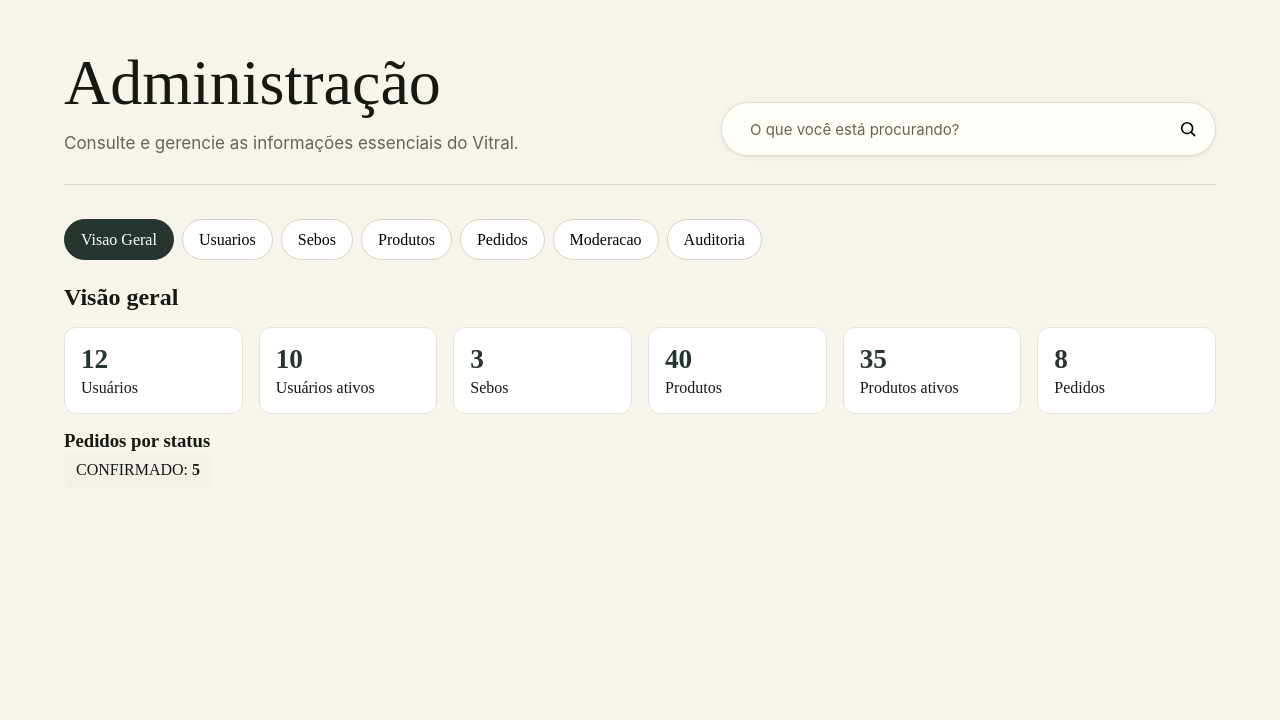
it: administração › exibe métricas, moderação e auditoria sem dados privados
This screenshot has width=1280, height=720.
Check: the text "40" is shown, box left=665, top=344, right=692, bottom=374
Check: the text "Produtos ativos" is shown, box left=860, top=379, right=959, bottom=396
Click the button "Moderacao": (606, 240) left=553, top=219, right=659, bottom=260
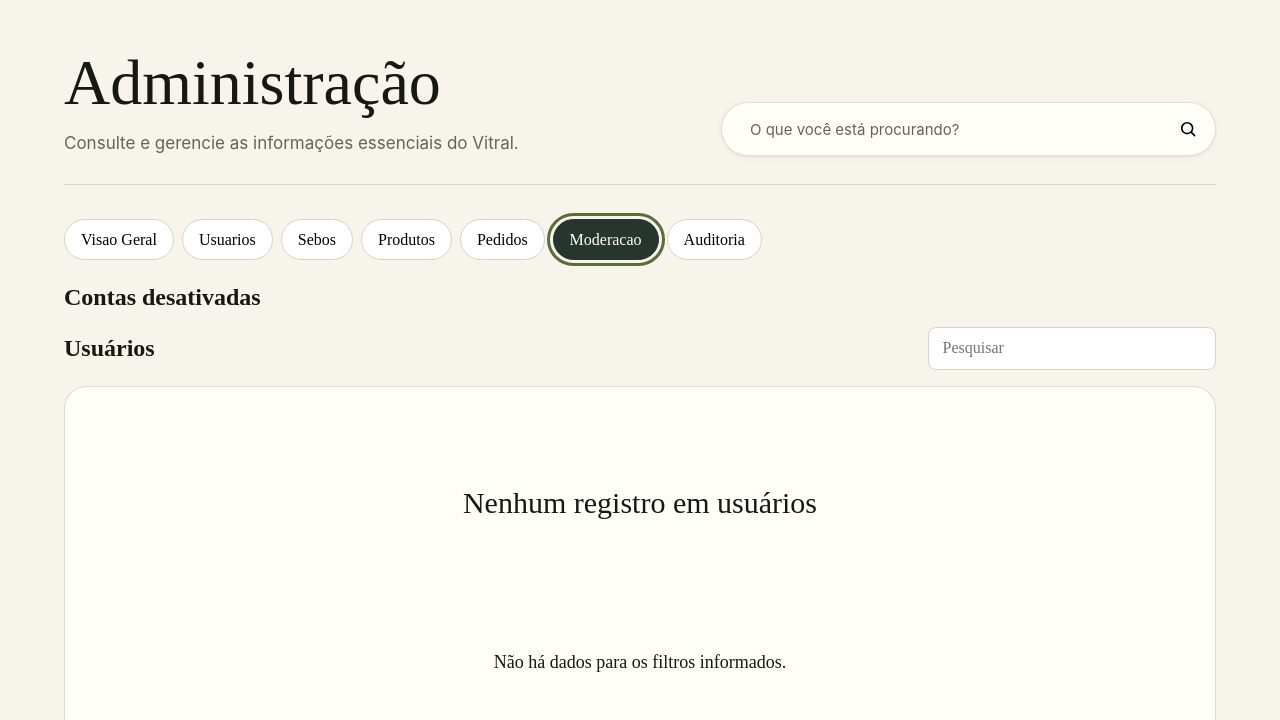
Click the button "Auditoria": (714, 240) left=667, top=219, right=762, bottom=260
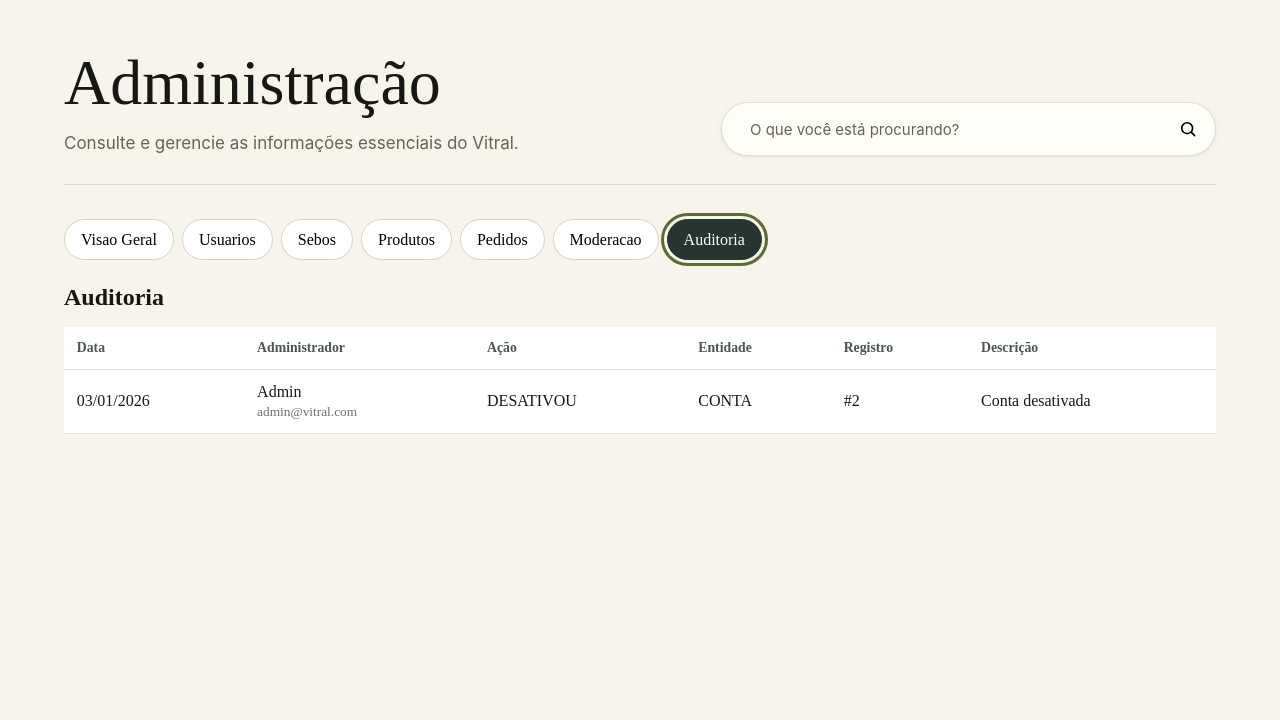
Check: the text "Conta desativada" is shown, box left=968, top=369, right=1216, bottom=433
